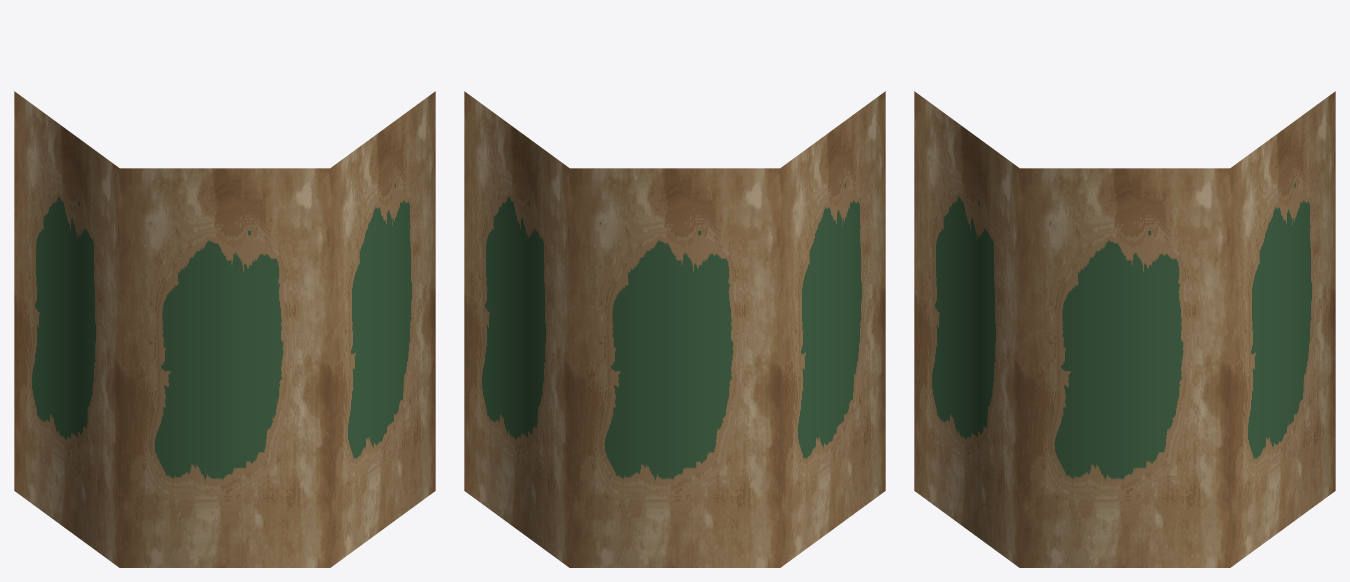
File: lightWindows.glb
3 views of the same model, side by side, from view 1: azimuth 30°, elevation 25°; view 2: azimuth 150°, elevation 25°; view 3: azimuth 270°, elevation 25° (orthographic).
Parts seen in each view (by area): view 1: lighthousWindows_diff.png__; view 2: lighthousWindows_diff.png__; view 3: lighthousWindows_diff.png__.
Boxes of the visible parts, x1=… form: lighthousWindows_diff.png__: x1=14, y1=91, x2=435, y2=567; lighthousWindows_diff.png__: x1=464, y1=91, x2=885, y2=567; lighthousWindows_diff.png__: x1=914, y1=91, x2=1335, y2=567.
Bounding box in the file's own units: 6.4 × 7.73 × 7.38.
Materials: 1 (1 with a texture image).
